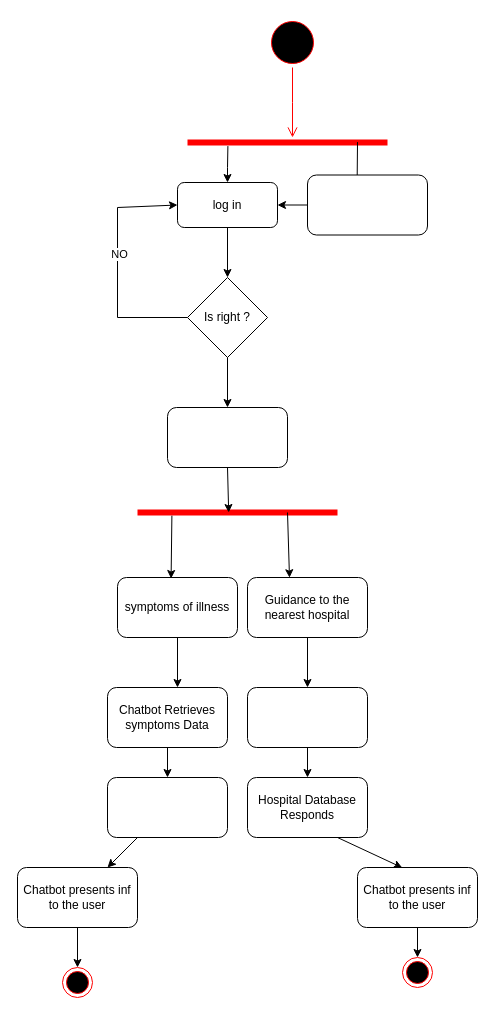
The diagram is 495 pixels wide and 1015 high, and some of its shapes have lost their labels. The shapes that lost their labels are listed below. From the top down, each one's centre as x and y in pixels, then its label:
the point at 367,204: sign up
the point at 227,437: Enter to the chatbot
the point at 307,717: Chatbot Retrieves Hospital Data
the point at 167,807: symptoms responds
